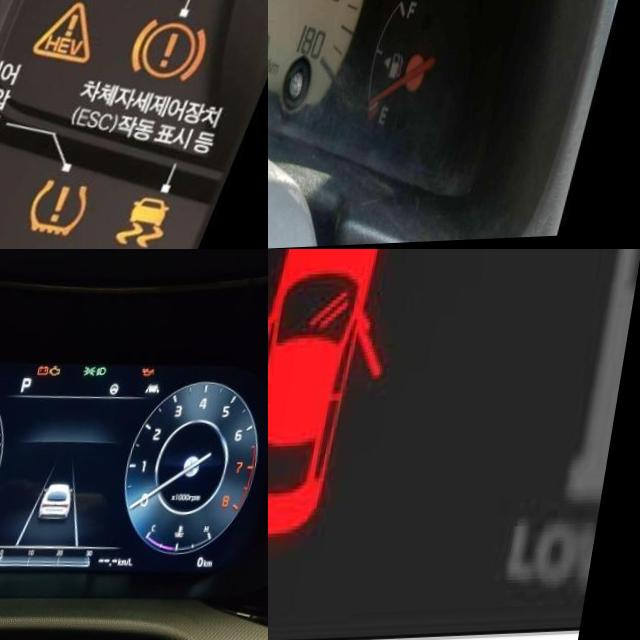LaneCenteringOff: (153, 386, 169, 398)
Low beam: (103, 369, 114, 380)
SideLamp: (90, 368, 104, 380)
